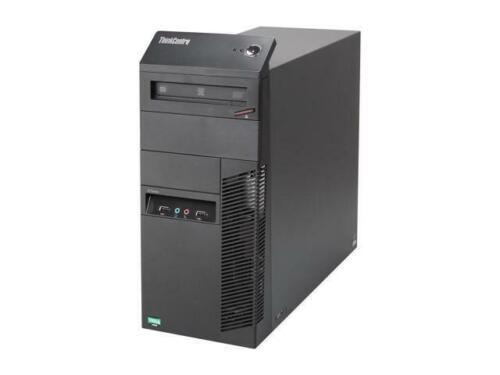DESKTOP PC: (139, 26, 361, 355)
